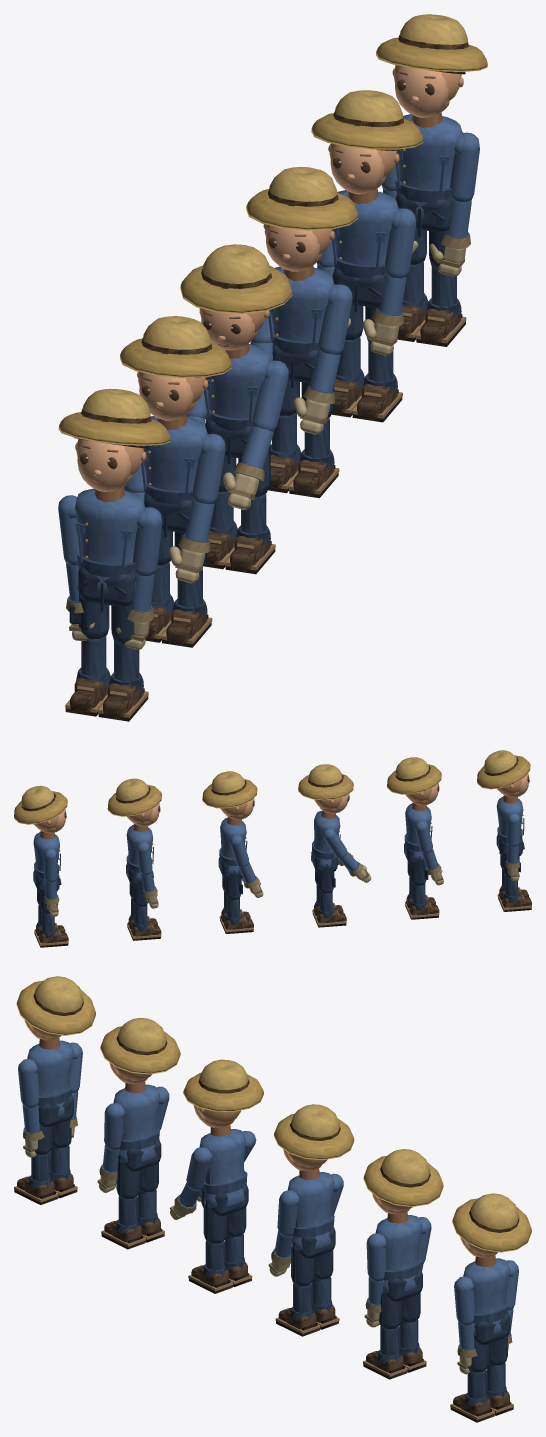
The model's file is ba-inspect-side-before.glb.
3 views of the same model, one above another, from view 1: azimuth 30°, elevation 25°; view 2: azimuth 150°, elevation 25°; view 3: azimuth 270°, elevation 25° (orthographic). The views are drawn at different scales.
Visible parts, largest first — view 1: strawHat (×6), denimJacketTorso (×6), head (×6), leftShin (×6), rightShin (×6), leftUpperArm (×6), trouserHips (×6), leftHandMesh (×5), leftLowerArm (×4), rightThigh, rightUpperArm; view 2: strawHat (×6), denimJacketTorso (×6), rightShin (×6), rightUpperArm (×6), head (×6), rightThigh (×4); view 3: strawHat (×6), denimJacketTorso (×6), leftShin (×6), rightShin (×6), leftUpperArm (×6), trouserHips (×6), leftThigh (×4), head.
Boxes of the visible parts, <box> form: strawHat (×6): <box>58,14,487,445</box>; denimJacketTorso (×6): <box>74,112,462,593</box>; head (×6): <box>75,65,465,491</box>; leftShin (×6): <box>98,266,466,721</box>; rightShin (×6): <box>65,261,428,716</box>; leftUpperArm (×6): <box>132,132,479,576</box>; trouserHips (×6): <box>77,193,451,611</box>; leftHandMesh (×5): <box>169,234,470,583</box>; leftLowerArm (×4): <box>182,274,406,547</box>; rightThigh: <box>69,594,109,639</box>; rightUpperArm: <box>58,495,79,565</box>; strawHat (×6): <box>14,750,530,824</box>; denimJacketTorso (×6): <box>33,795,524,887</box>; rightShin (×6): <box>37,876,531,947</box>; rightUpperArm (×6): <box>43,812,520,882</box>; head (×6): <box>33,773,529,833</box>; rightThigh (×4): <box>132,856,428,906</box>; strawHat (×6): <box>16,976,531,1252</box>; denimJacketTorso (×6): <box>27,1038,509,1336</box>; leftShin (×6): <box>14,1152,494,1422</box>; rightShin (×6): <box>50,1145,513,1415</box>; leftUpperArm (×6): <box>18,1058,475,1325</box>; trouserHips (×6): <box>38,1095,510,1344</box>; leftThigh (×4): <box>116,1155,401,1329</box>; head: <box>193,1105,241,1127</box>.
Size of what is drawn, in the model's own units: 5.97 by 2.43 by 5.18.
